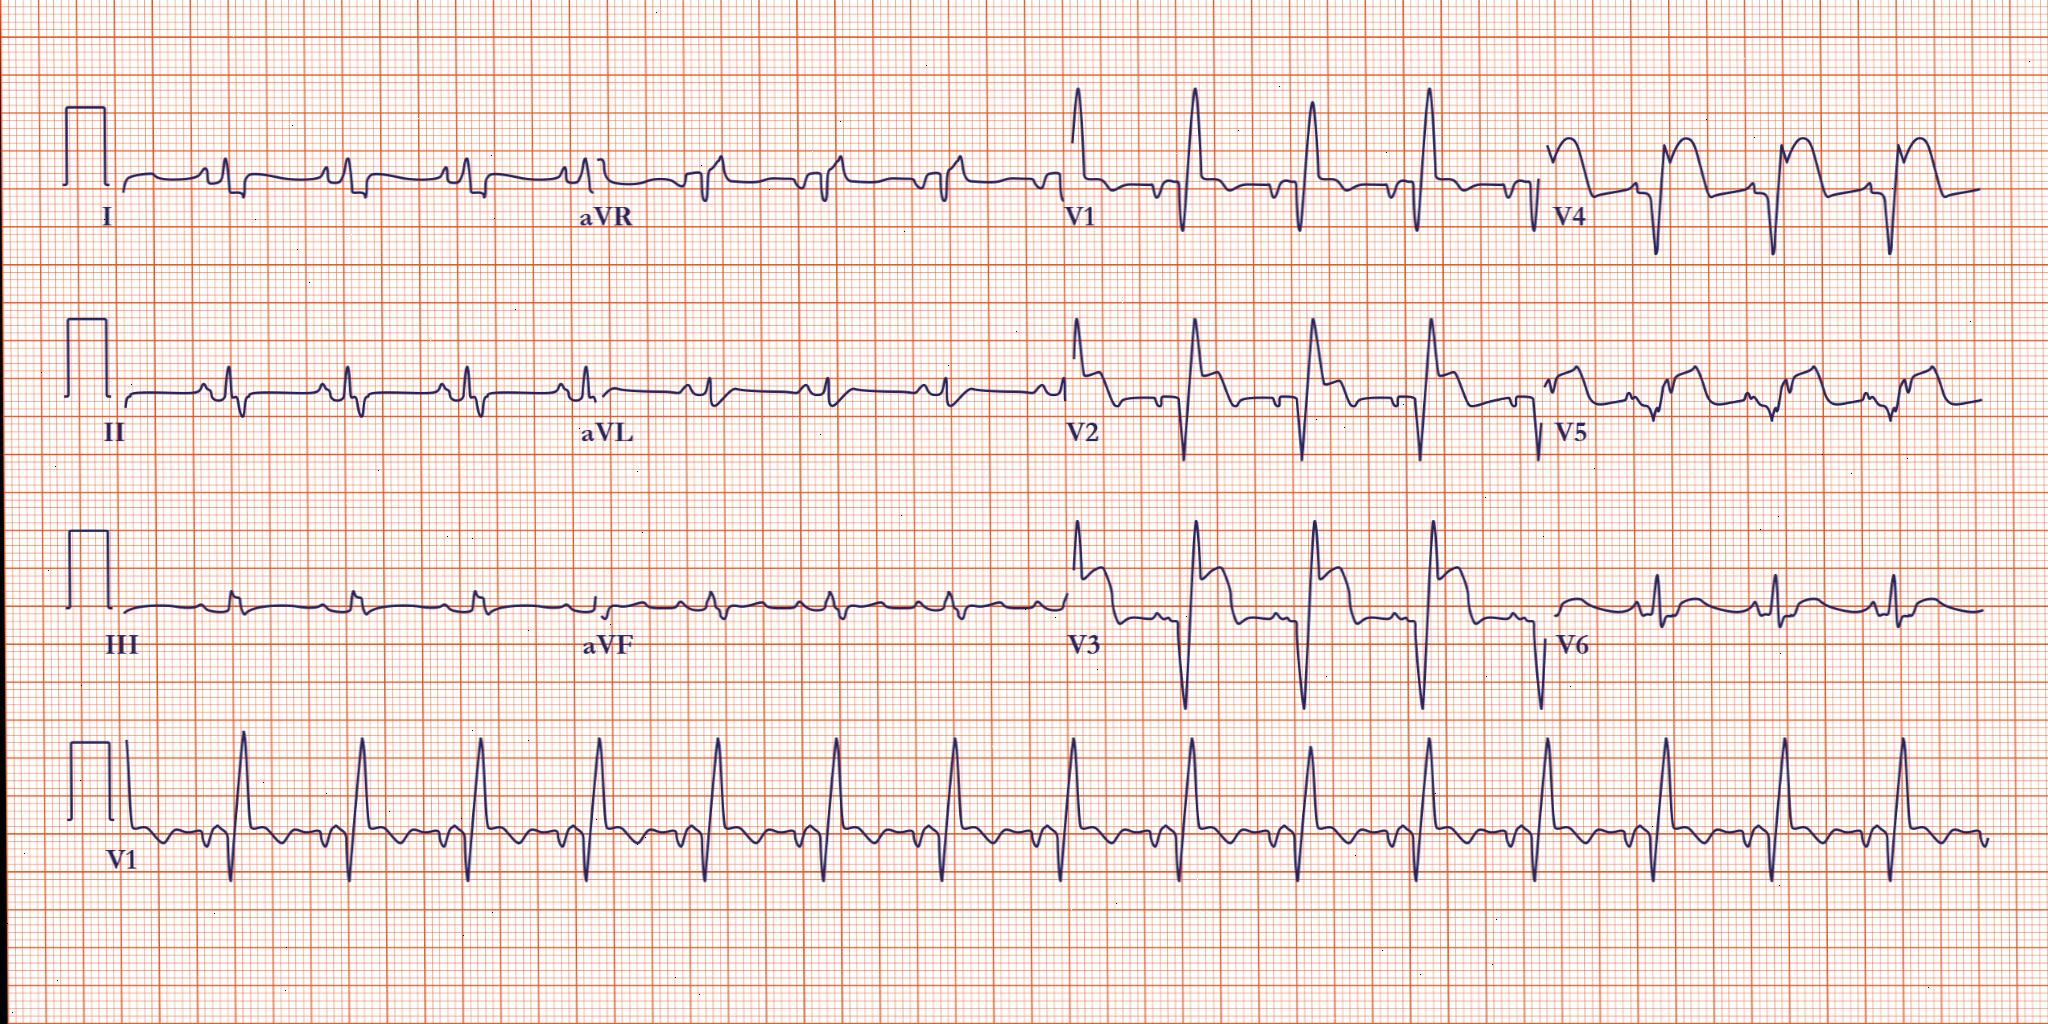Lead_I: (88, 108, 538, 248)
Lead_II: (90, 329, 546, 458)
Lead_III: (91, 536, 558, 684)
Lead_V1: (1051, 57, 1544, 280)
Lead_V2: (1061, 286, 1545, 478)
Lead_V3: (1067, 508, 1554, 726)
Lead_V4: (1544, 68, 1987, 266)
Lead_V5: (1541, 304, 1996, 465)
Lead_V6: (1556, 525, 2005, 684)
Lead_aVF: (556, 533, 1072, 677)
Lead_aVL: (543, 312, 1067, 456)
Lead_aVR: (546, 94, 1062, 274)
